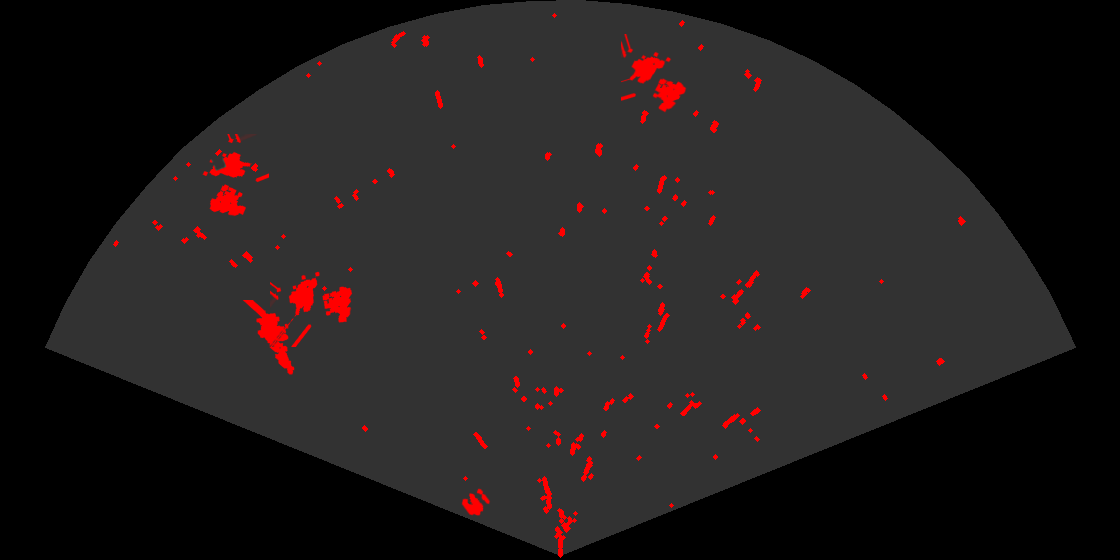ball: (460, 487, 492, 517)
cage: (270, 270, 354, 347), (201, 134, 269, 218), (621, 34, 688, 114)
frogman: (241, 300, 296, 376)
